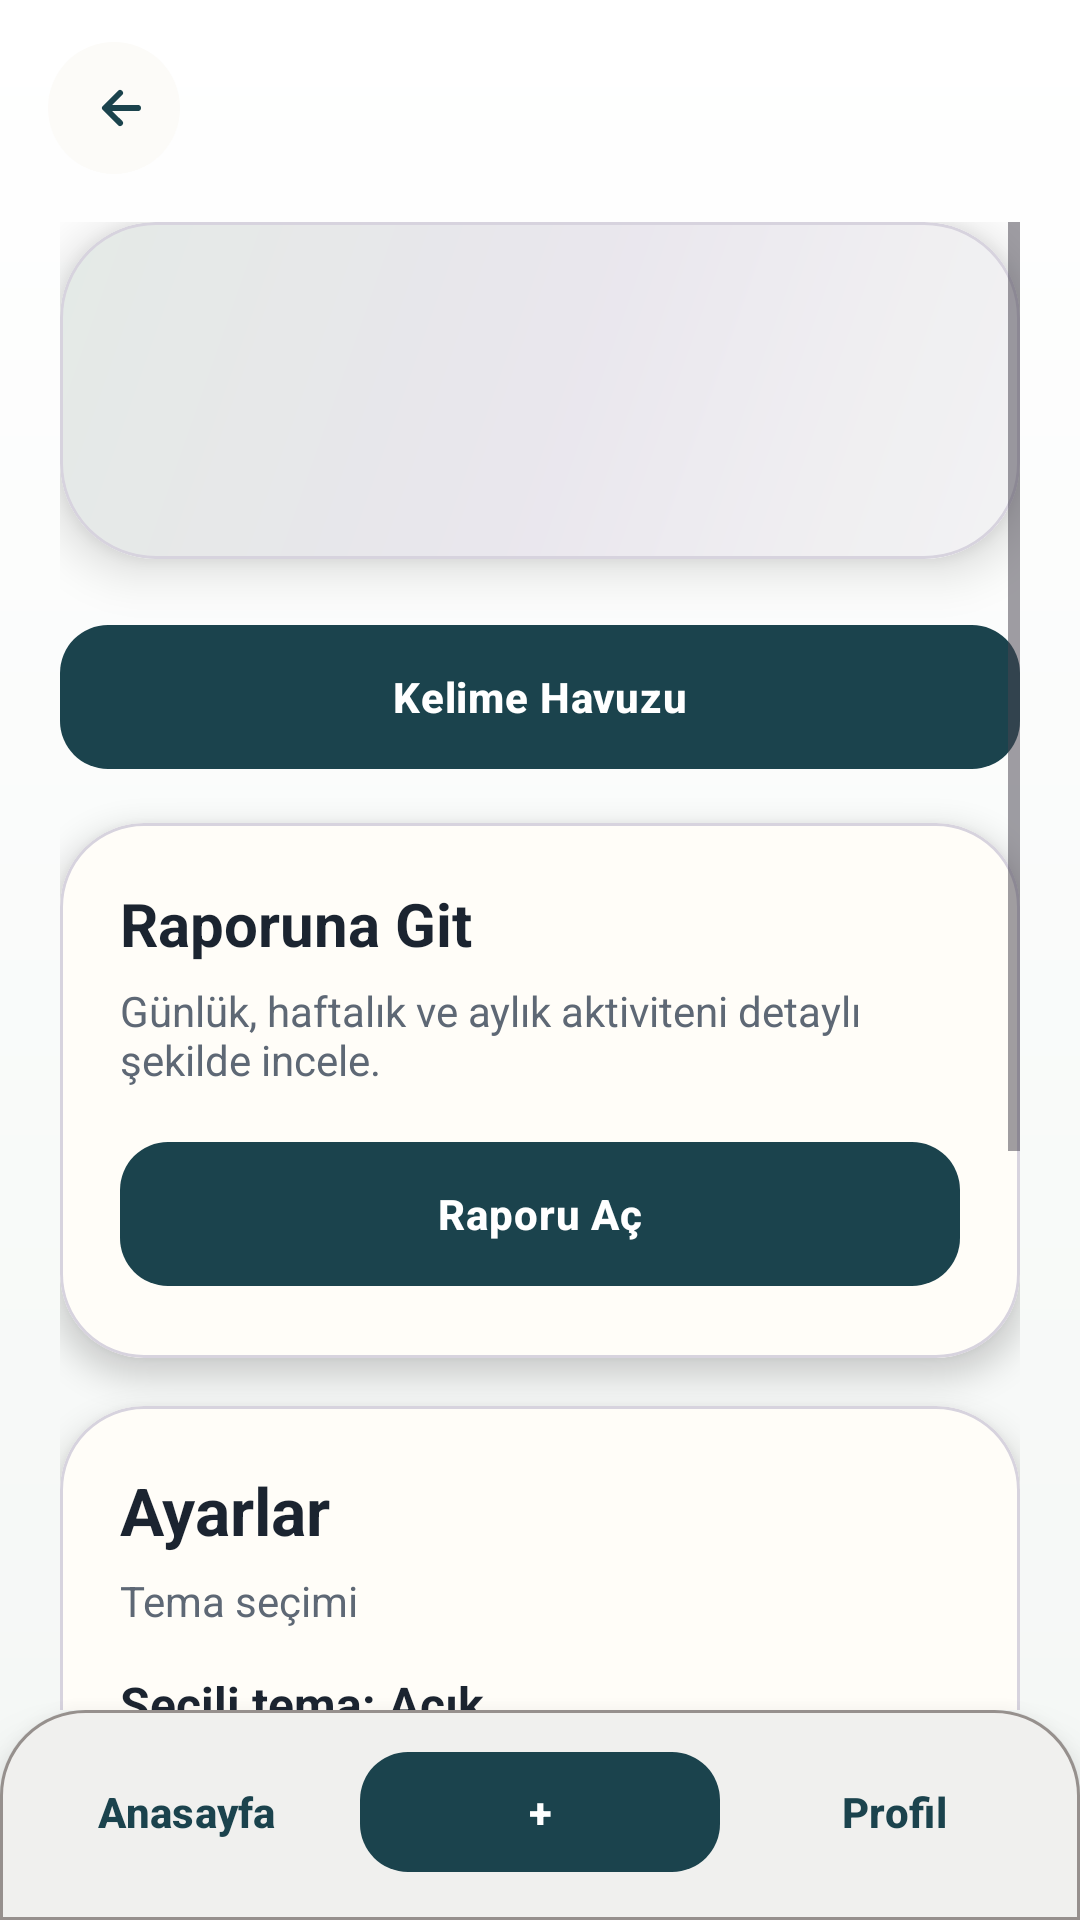

Screen size 1080x1920. Icon name, then its center in pixels as (x=x, y=y):
Geri: (x=121, y=108)
